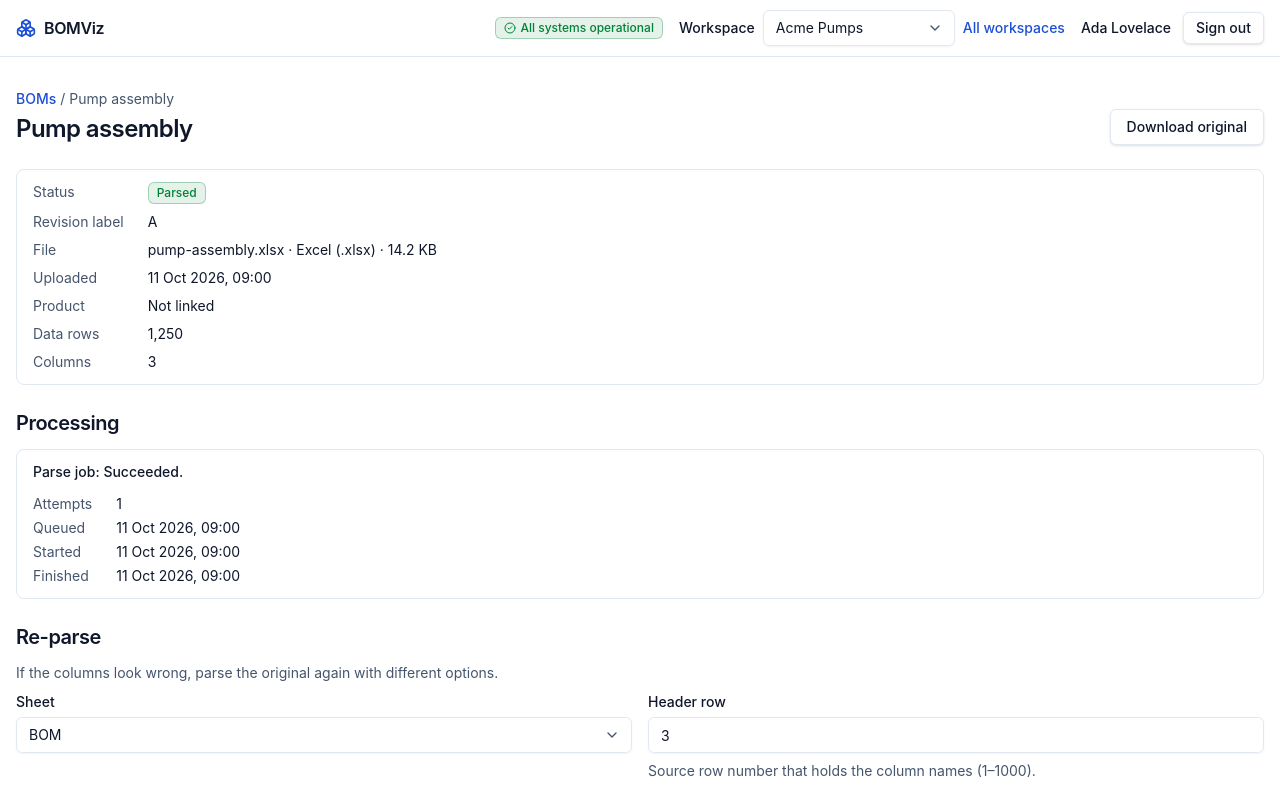
Test: BomDetailPage download › shows an alert when the signed URL cannot be created
This screenshot has width=1280, height=788.
Click the button "Download original": (1187, 127) [1110, 109, 1264, 145]
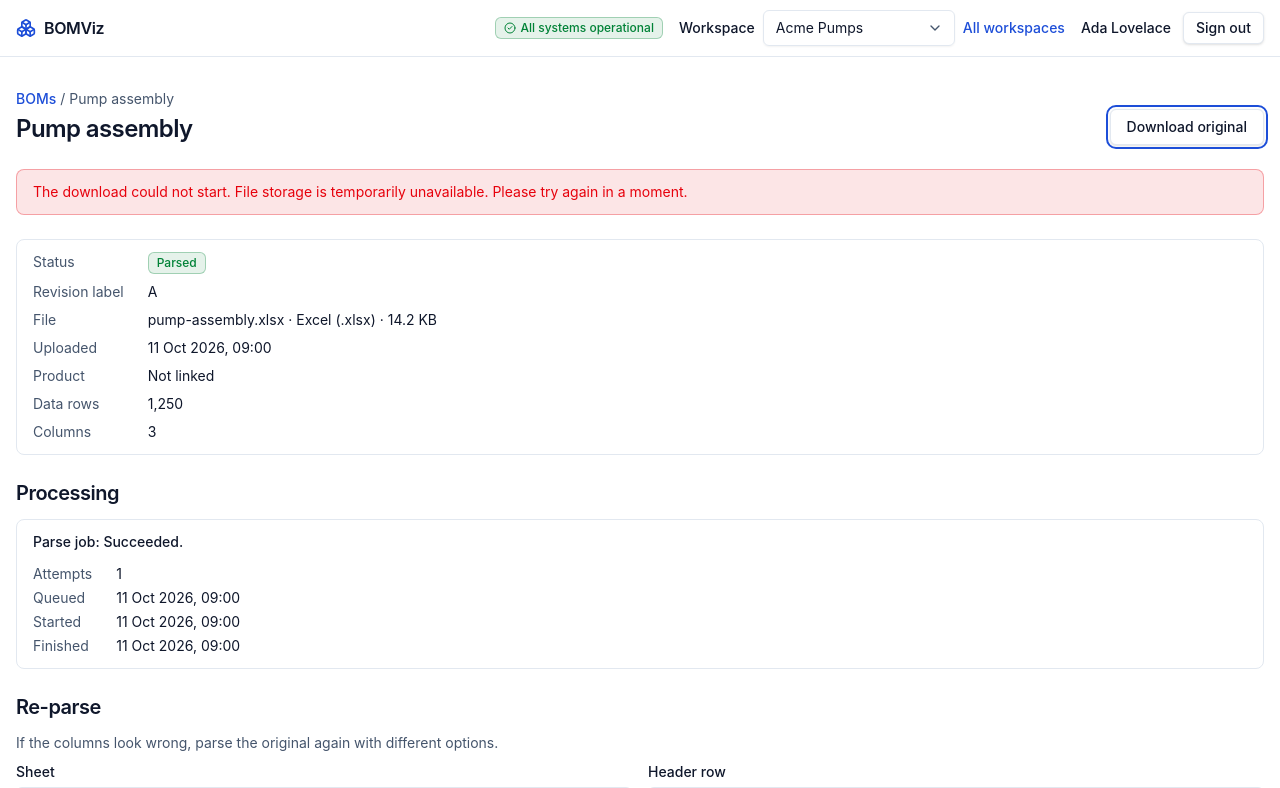
Check: the message that starts with "The download could not start." shows "The download could not start. File storage is temporarily unavailable. Please try again in a moment.", box [16, 169, 1264, 215]
